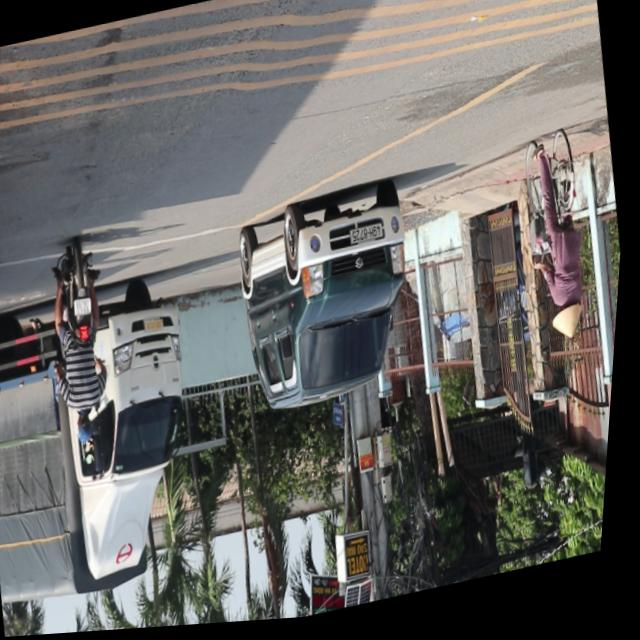licenseplate: (38, 236, 135, 456), (0, 260, 19, 458)
motorcyclist: (80, 414, 101, 447)
nohelmet: (77, 298, 97, 319)
